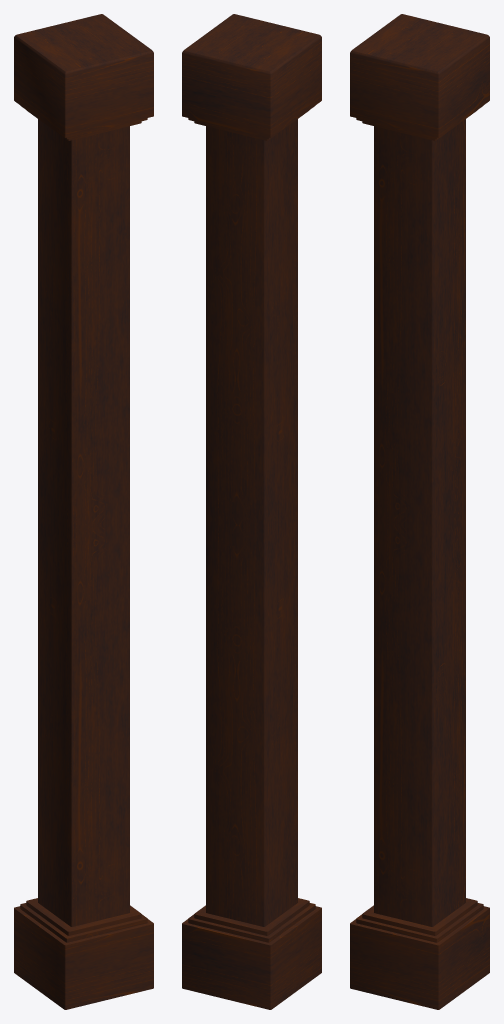
Rendered from Mesh_Modular_Column.fbx.
3 renders of one model, left to right at view 1: azimuth 30°, elevation 25°; view 2: azimuth 150°, elevation 25°; view 3: azimuth 330°, elevation 25°, orthographic.
Visible parts, largest first — view 1: Cube; view 2: Cube; view 3: Cube.
Part boxes in pixels (x1,y1,x2,y2): Cube: [14, 14, 153, 1009]; Cube: [182, 14, 321, 1009]; Cube: [350, 14, 489, 1009].
Size of the model in its own units: 0.3 by 3 by 0.3.
